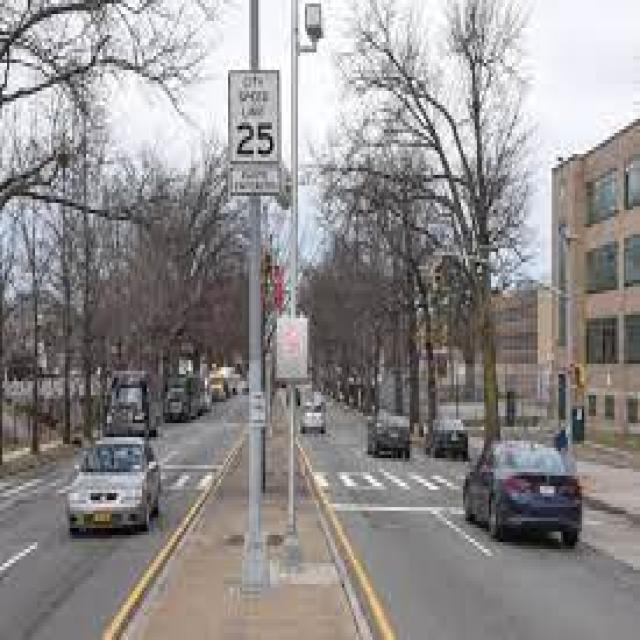speedLimit25: (226, 72, 279, 166)
